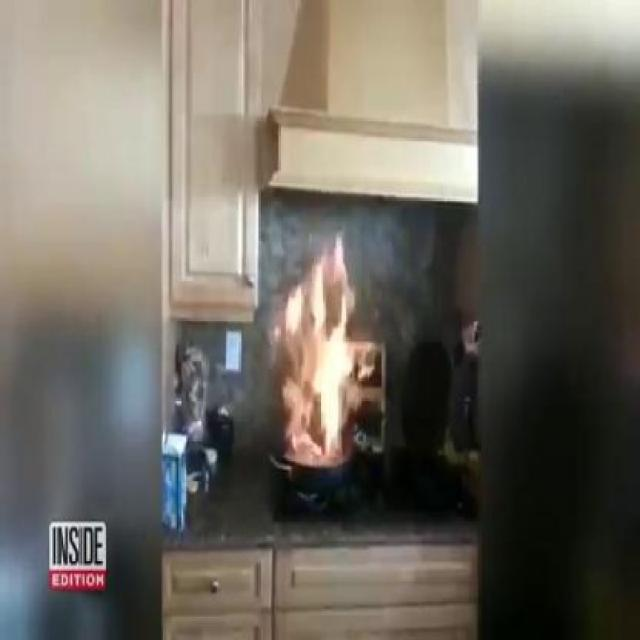fire: (280, 218, 362, 470)
